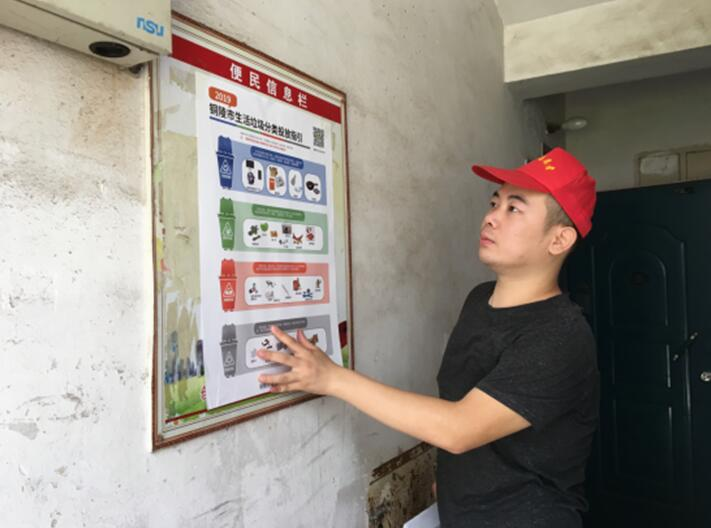bill: (194, 69, 345, 410)
